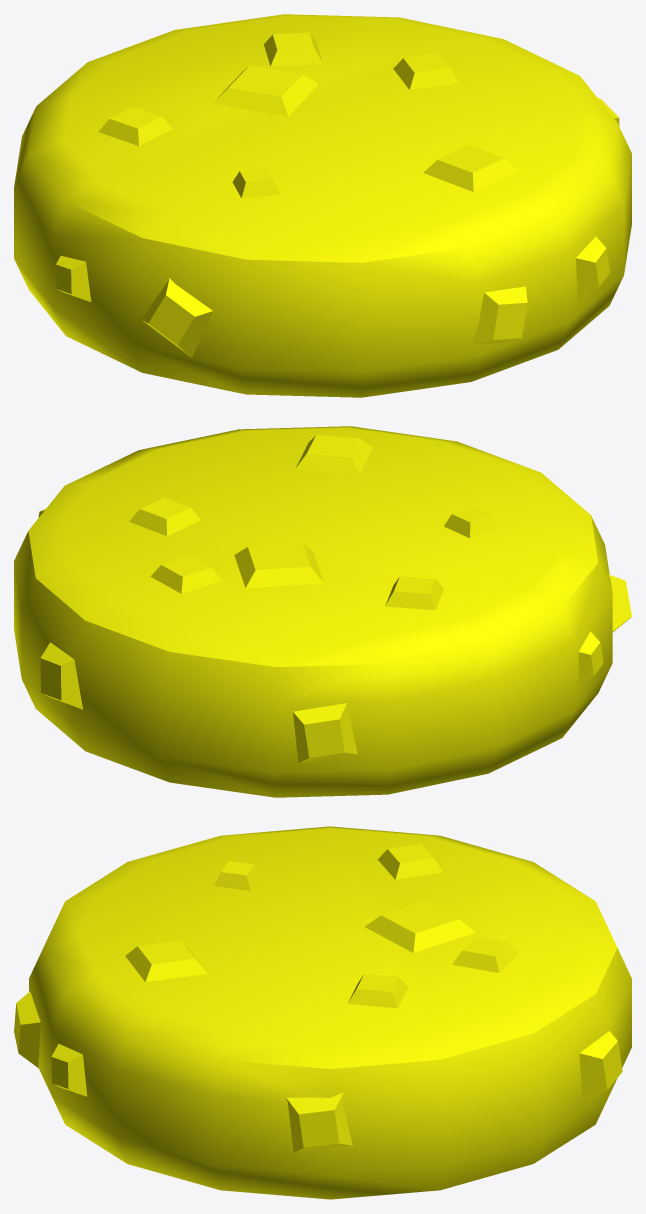
File: kaykit-food-ingredient-vegetableburger-cooked.glb
3 renders of one model, top to bottom at view 1: azimuth 30°, elevation 25°; view 2: azimuth 150°, elevation 25°; view 3: azimuth 270°, elevation 25°, orthographic. The views are drawn at different scales.
Parts seen in each view (by area): view 1: food_ingredient_vegetableburger_cooked; view 2: food_ingredient_vegetableburger_cooked; view 3: food_ingredient_vegetableburger_cooked.
Part boxes in pixels (left/top/right/bottom): food_ingredient_vegetableburger_cooked: left=14, top=14, right=631, bottom=397; food_ingredient_vegetableburger_cooked: left=14, top=426, right=631, bottom=797; food_ingredient_vegetableburger_cooked: left=14, top=826, right=631, bottom=1199.
Bounding box in the file's own units: 0.728 × 0.216 × 0.7173.
